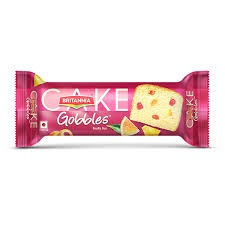Britannaia fruit cake: (7, 67, 218, 155)
